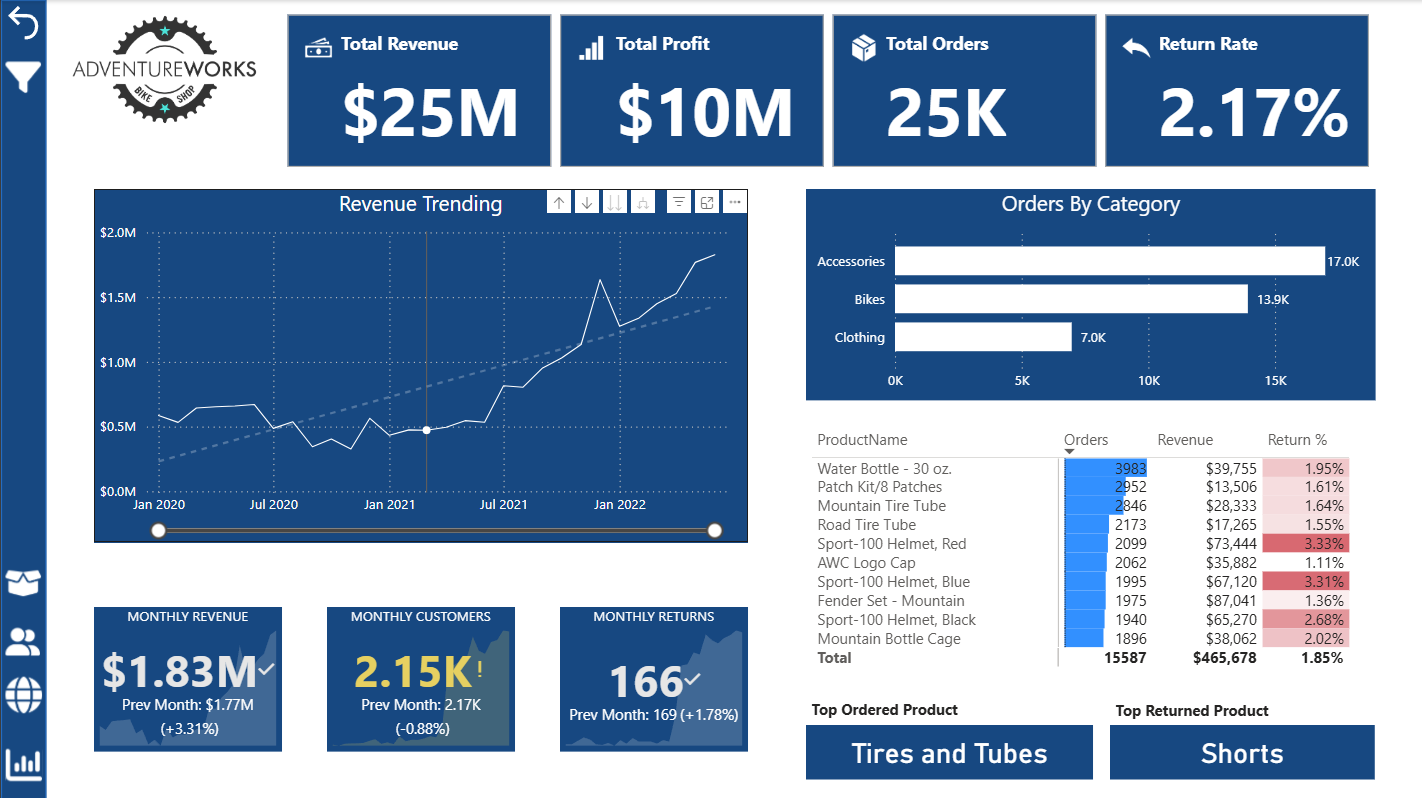

Layout of this report page (visuals, bound fields, positions):
{"tool":"powerbi","page":{"name":"Exec Dash","canvas":[1280,720],"ordinal":0},"visuals":[{"type":"shape","title":"Nav Bar","box":[0,0,40.8,720],"z":0},{"type":"card","fields":{"Values":["Min(Product Subcategories Lookup.SubcategoryName)"]},"box":[723.6,652,257.8,49.1],"z":0,"group":"g2"},{"type":"actionButton","box":[0,665.4,40.9,45.5],"z":0,"group":"g1"},{"type":"actionButton","box":[0,0,40.5,40.5],"z":1000},{"type":"actionButton","box":[0,602.7,40.9,45.5],"z":1000,"group":"g1"},{"type":"textbox","box":[723.6,623.9,164,40.1],"z":1000,"group":"g2"},{"type":"actionButton","box":[0,49.1,40.9,40],"z":2000},{"type":"actionButton","box":[0,557.2,40.9,39.1],"z":2000,"group":"g1"},{"type":"card","fields":{"Values":["Min(Product Subcategories Lookup.SubcategoryName)"]},"box":[997.2,652,238.1,49.1],"z":2000,"group":"g2"},{"type":"group","id":"g1","title":"Page Bookmarks","box":[0,504.5,40.9,206.4],"z":3000},{"type":"actionButton","box":[0,504.5,40.9,40],"z":3000,"group":"g1"},{"type":"textbox","box":[997.2,624.9,165,40.1],"z":3000,"group":"g2"},{"type":"image","title":"Logo","box":[41.3,0,211.9,124.8],"z":4000},{"type":"lineChart","title":"Revenue Trending","fields":{"Y":["Measure Table.Total Revenue (Measure)"],"Category":["Calendar Lookup.Start of Year","Calendar Lookup.Start of Quarter","Calendar Lookup.Start of Month"]},"box":[84,169.8,587,317.7],"z":6000},{"type":"kpi","title":" MONTHLY REVENUE","fields":{"Indicator":["Measure Table.Total Revenue (Measure)"],"TrendLine":["Calendar Lookup.Date Hierarchy.Start of Month"],"Goal":["Measure Table.Previous Month Revenue"]},"box":[84,545.6,168.9,129.6],"z":7000},{"type":"kpi","title":" MONTHLY CUSTOMERS","fields":{"TrendLine":["Calendar Lookup.Date Hierarchy.Start of Month"],"Indicator":["Measure Table.Total Orders"],"Goal":["Measure Table.Previous Month Orders"]},"box":[293.1,545.6,168.9,129.6],"z":8000},{"type":"kpi","title":"MONTHLY RETURNS","fields":{"TrendLine":["Calendar Lookup.Date Hierarchy.Start of Month"],"Indicator":["Measure Table.Total Returns"],"Goal":["Measure Table.Previous Month Returns"]},"box":[502.1,545.6,168.9,129.6],"z":9000},{"type":"clusteredBarChart","title":"Orders By Category","fields":{"Category":["Product Category Lookup.CategoryName"],"Y":["Measure Table.Total Orders"]},"box":[724,169.8,512.2,189.9],"z":10000},{"type":"pivotTable","fields":{"Rows":["Product Lookup.ProductName"],"Values":["Measure Table.Total Orders","Measure Table.Total Revenue (Measure)","Measure Table.Return Rate"]},"box":[724,381,512,233],"z":11000},{"type":"group","id":"g2","title":"Top Orders/Prods","box":[723.6,623.9,511.7,77.2],"z":13000},{"type":"cardVisual","fields":{"Data":["Measure Table.Total Revenue (Measure)","Measure Table.Total Profit","Measure Table.Total Orders","Measure Table.Return Rate"]},"box":[252.6,8.1,982.5,147.4],"z":13001}]}

Visuals, with their boxes on the page's 1280x720 design canvas (x1, y1, x2, y2). These are canvas units, not pixel positions in the 1422x798 screenshot, which may show the page scaled, cropped or inside an application window:
"Nav Bar" shape: [0, 0, 41, 720]
card - Min(Product Subcategories Lookup.SubcategoryName): [724, 652, 981, 701]
actionButton: [0, 665, 41, 711]
actionButton: [0, 0, 40, 40]
actionButton: [0, 603, 41, 648]
textbox: [724, 624, 888, 664]
actionButton: [0, 49, 41, 89]
actionButton: [0, 557, 41, 596]
card - Min(Product Subcategories Lookup.SubcategoryName): [997, 652, 1235, 701]
"Page Bookmarks" group: [0, 504, 41, 711]
actionButton: [0, 504, 41, 544]
textbox: [997, 625, 1162, 665]
"Logo" image: [41, 0, 253, 125]
"Revenue Trending" lineChart: [84, 170, 671, 488]
" MONTHLY REVENUE" kpi: [84, 546, 253, 675]
" MONTHLY CUSTOMERS" kpi: [293, 546, 462, 675]
"MONTHLY RETURNS" kpi: [502, 546, 671, 675]
"Orders By Category" clusteredBarChart: [724, 170, 1236, 360]
pivotTable - Product Lookup.ProductName x Measure Table.Total Orders: [724, 381, 1236, 614]
"Top Orders/Prods" group: [724, 624, 1235, 701]
cardVisual - Measure Table.Total Revenue (Measure) x Measure Table.Total Profit: [253, 8, 1235, 156]
